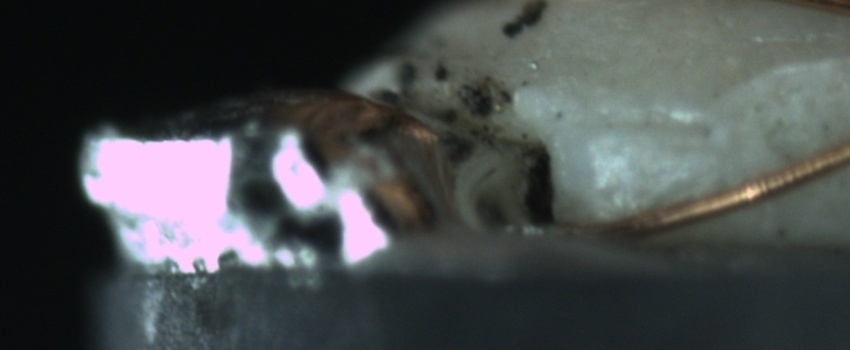DL: (579, 94, 711, 162)
